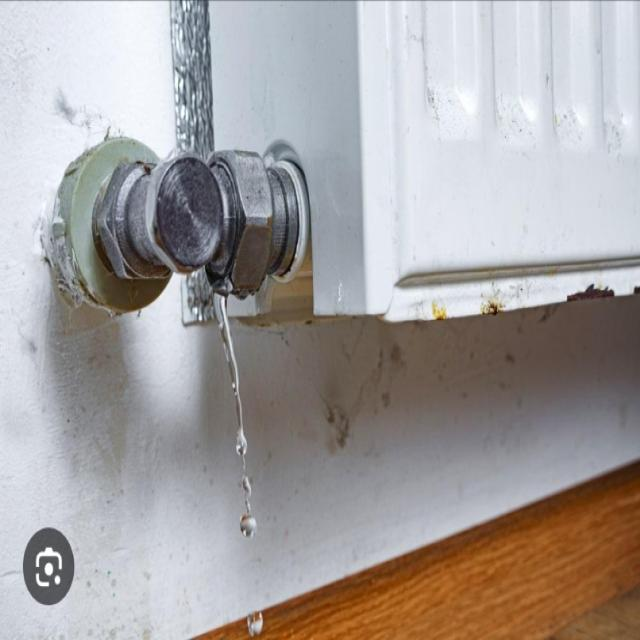leaking_radiator: (152, 223, 316, 563)
rust_on_radiator: (337, 205, 640, 386)
